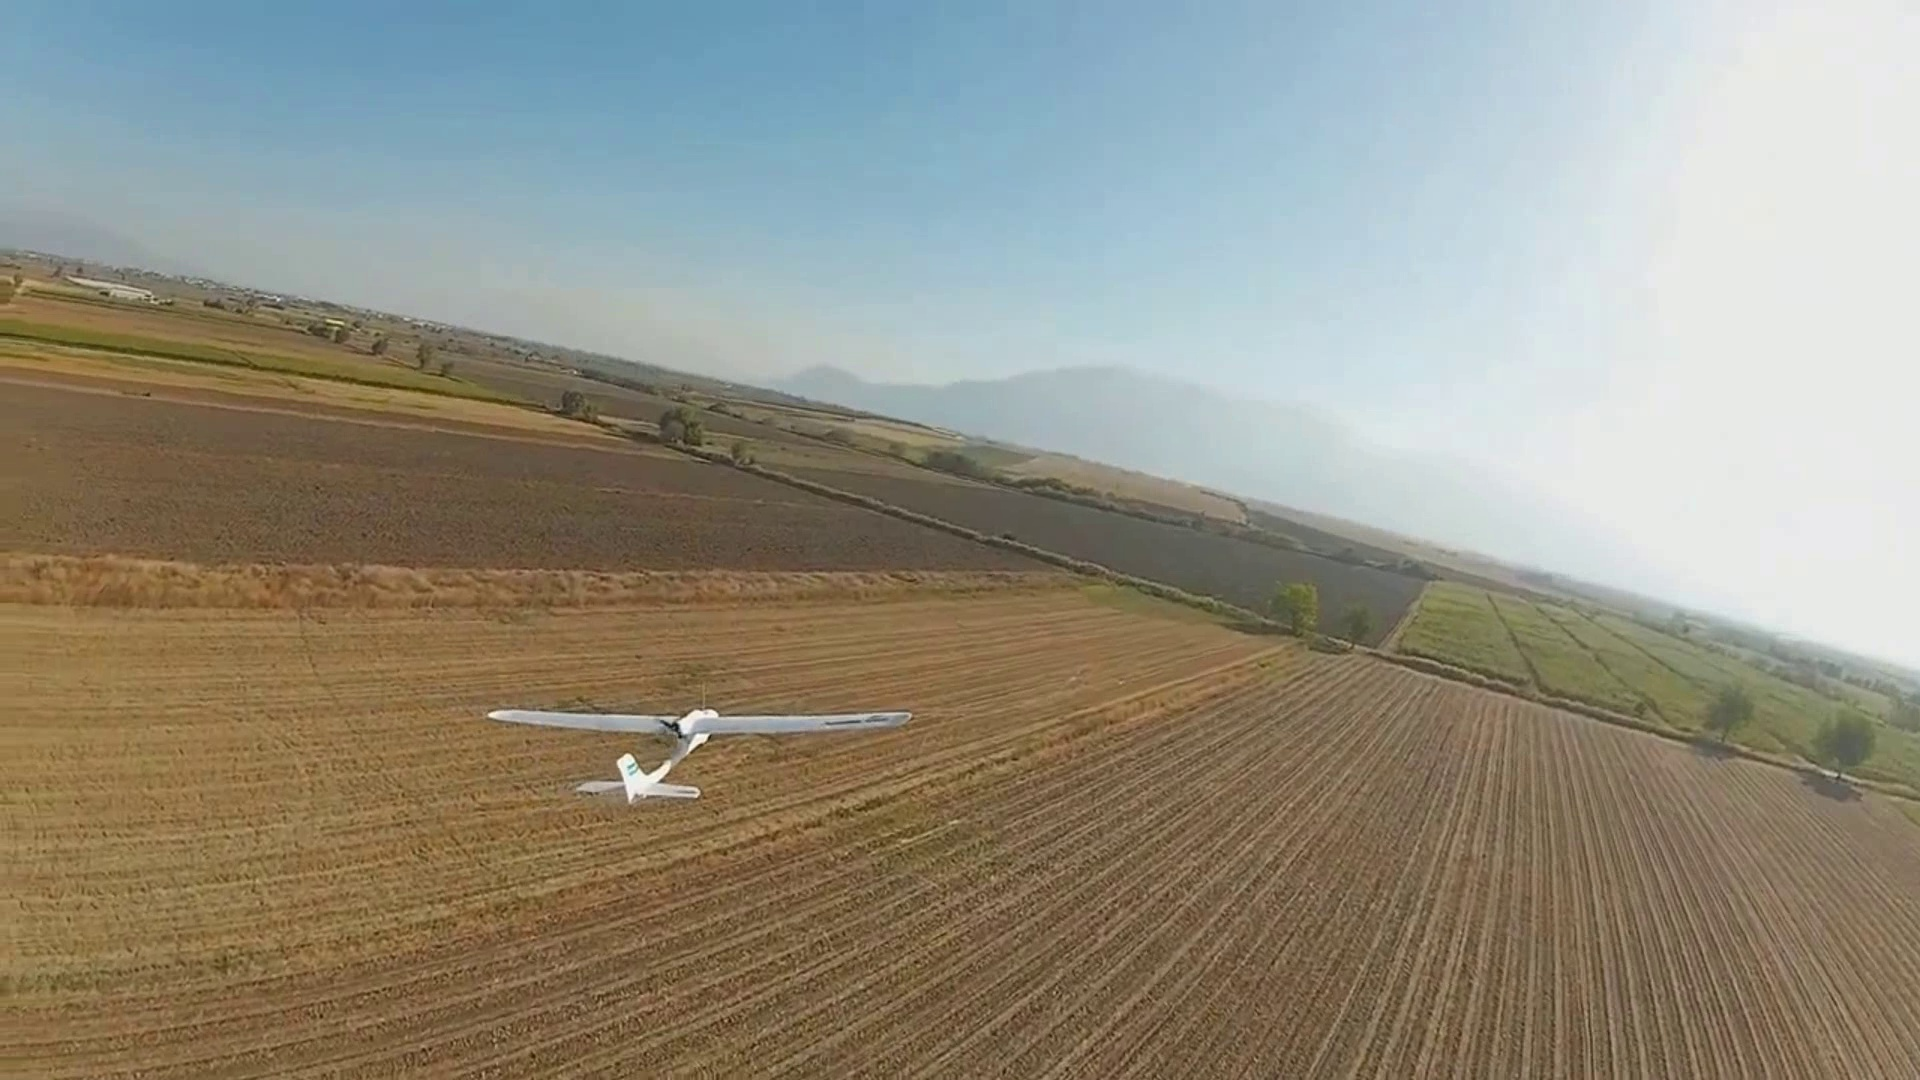airplane: (485, 700, 914, 808)
